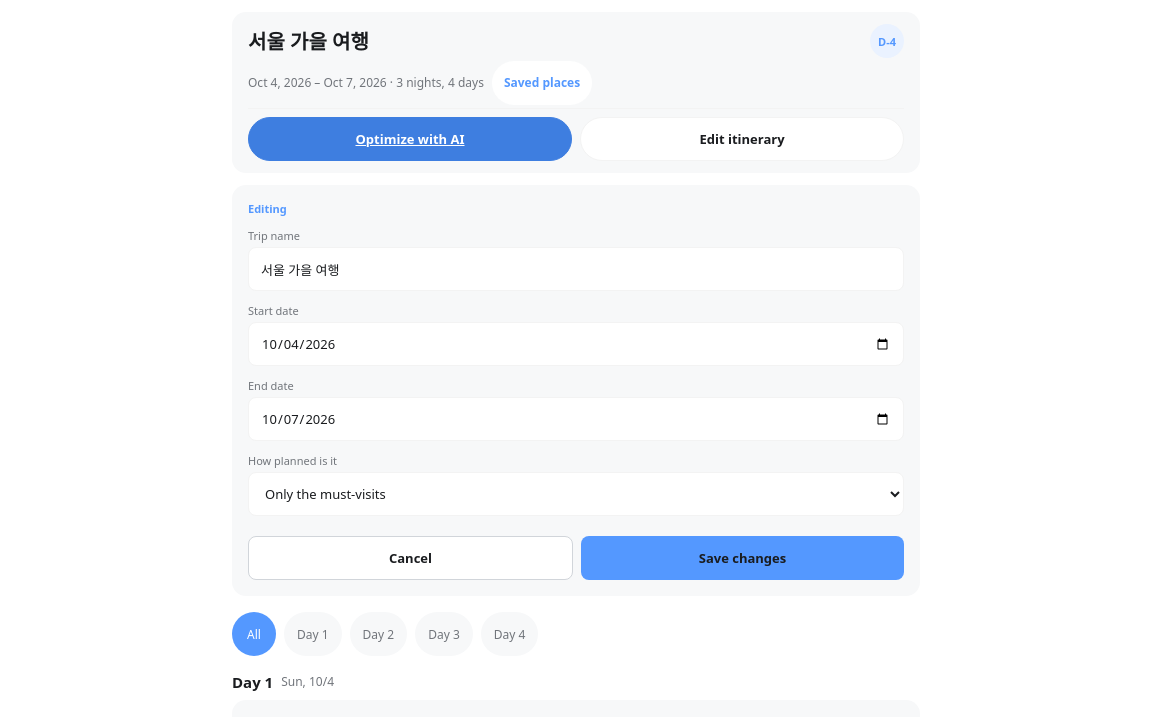
FE-302-T1 leaving with unsaved changes asks first › prompts rather than discarding silently
Type " 수정" into the field labelled "Trip name" at (576, 269), box x1=248 y1=247 x2=904 y2=291
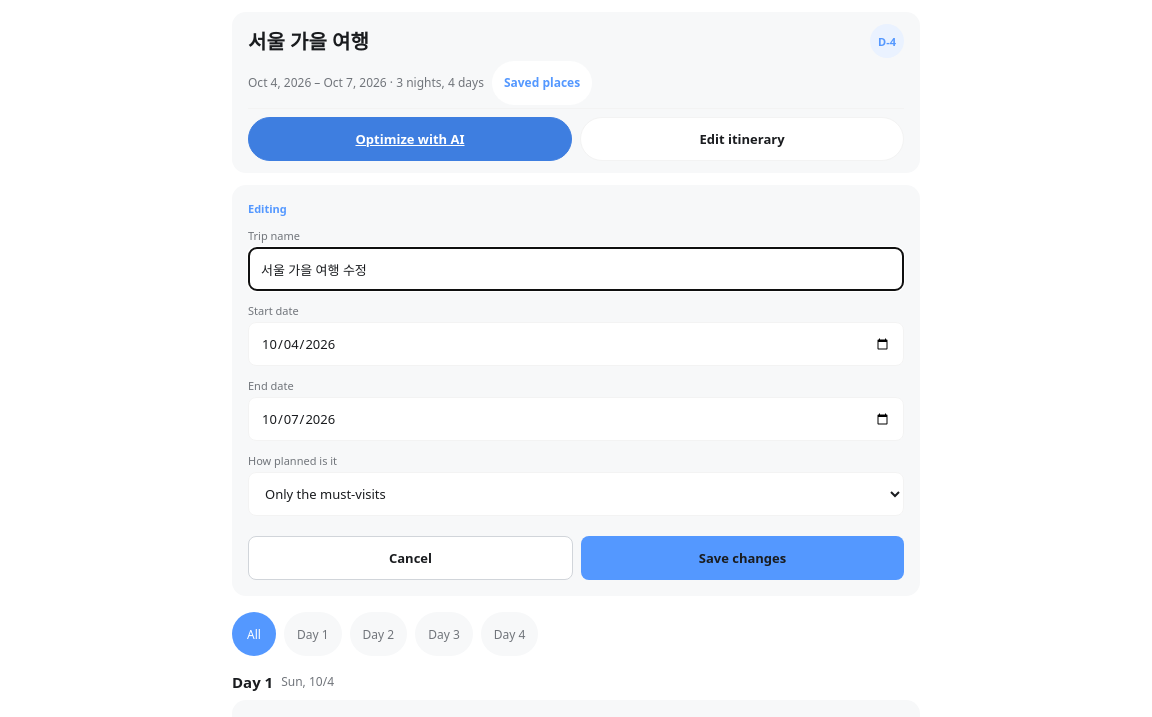
Click the button "Cancel" at (410, 558), box x1=248 y1=536 x2=573 y2=580
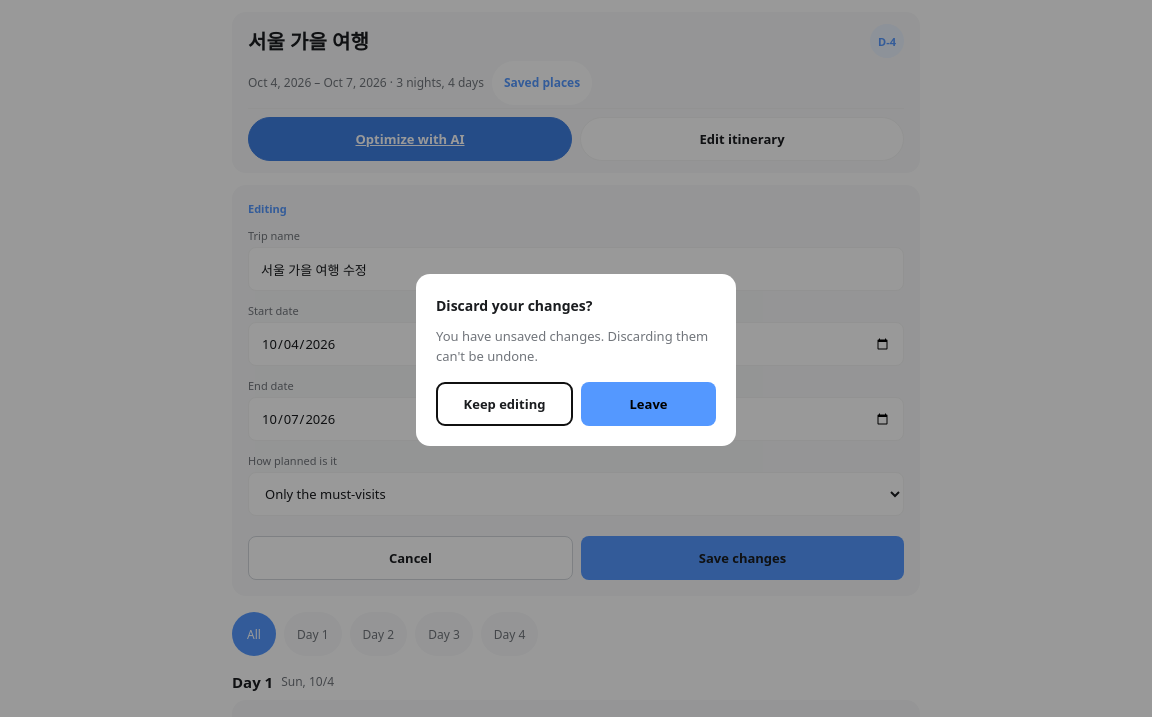
Expected: the dialog shows "Discard your changes?", x1=436 y1=296 x2=592 y2=315
